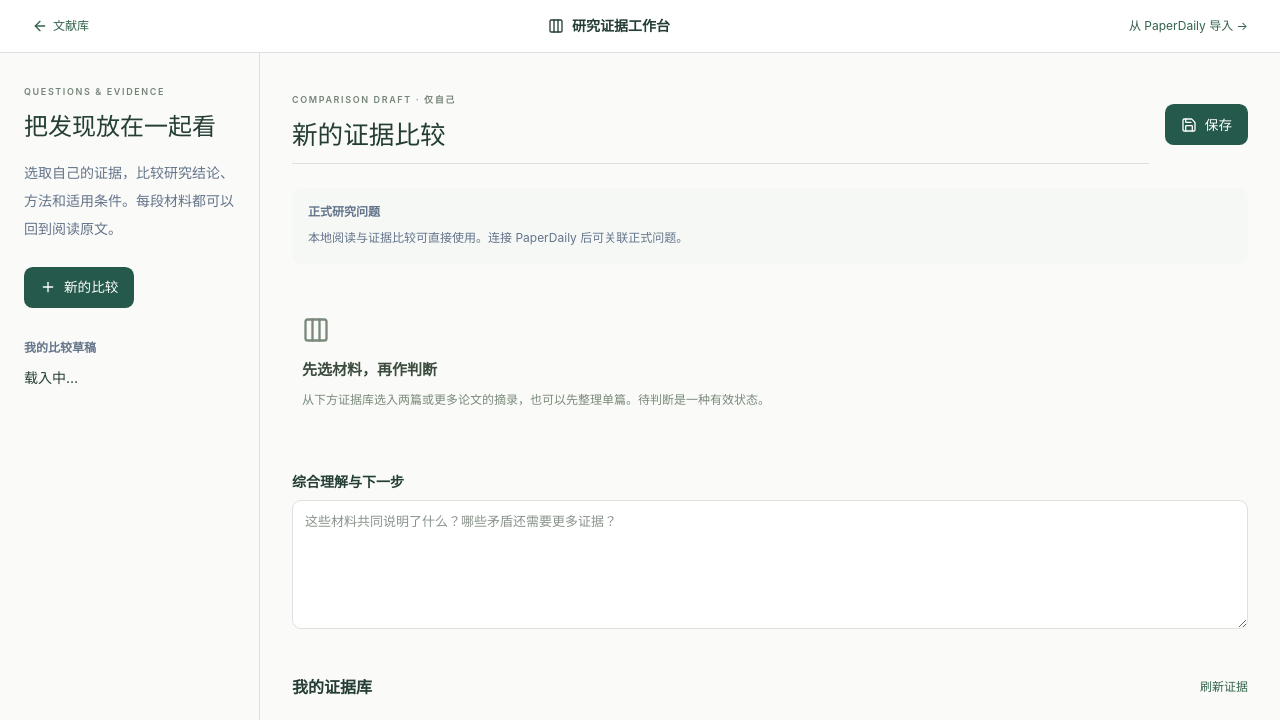
it: keeps the draft on screen when navigation save fails
The image size is (1280, 720).
Replace the text in the field labelled "COMPARISON DRAFT · 仅自己" with "Keep this thought" at coordinates (720, 137), box [292, 109, 1149, 164]
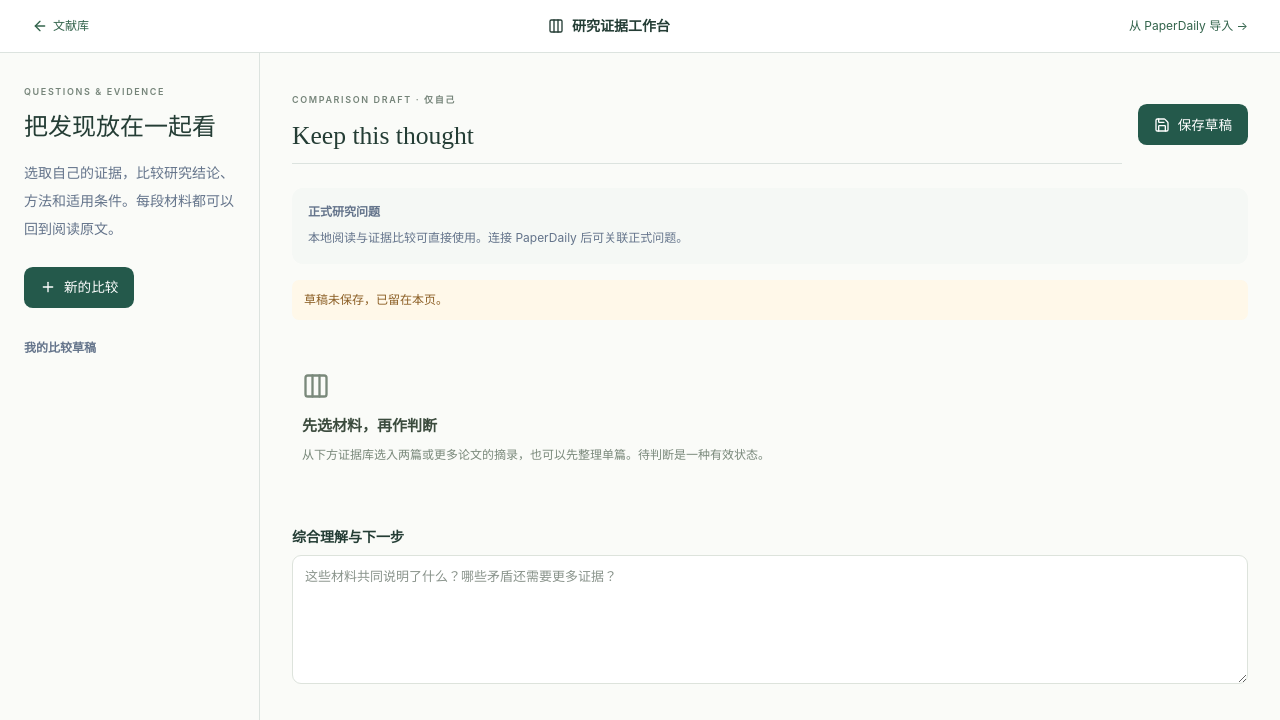
Now the text "草稿未保存，已留在本页。" is shown, box [292, 280, 1248, 320]
